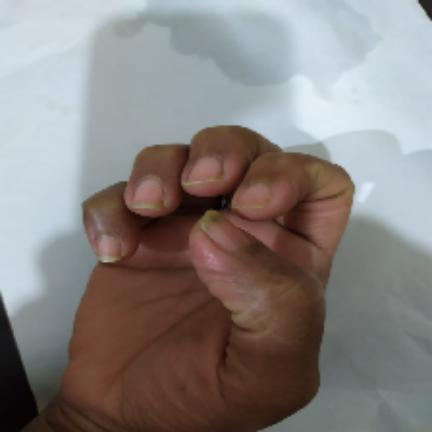Nail: (199, 210, 248, 251), (182, 158, 223, 186), (132, 176, 165, 209), (235, 184, 272, 209), (98, 237, 122, 263)
